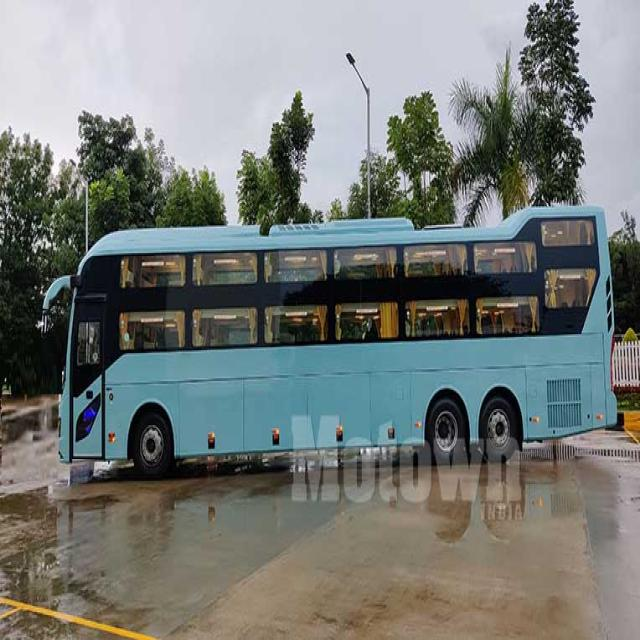bus: (46, 206, 616, 476)
